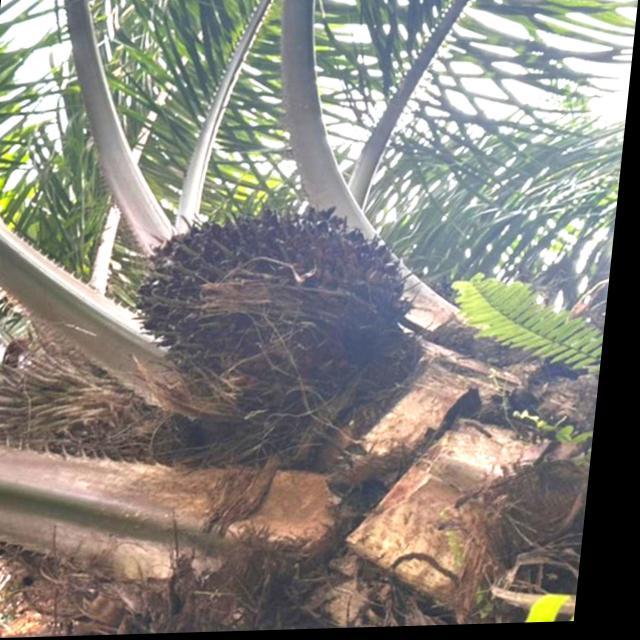ripe: (103, 191, 429, 393)
